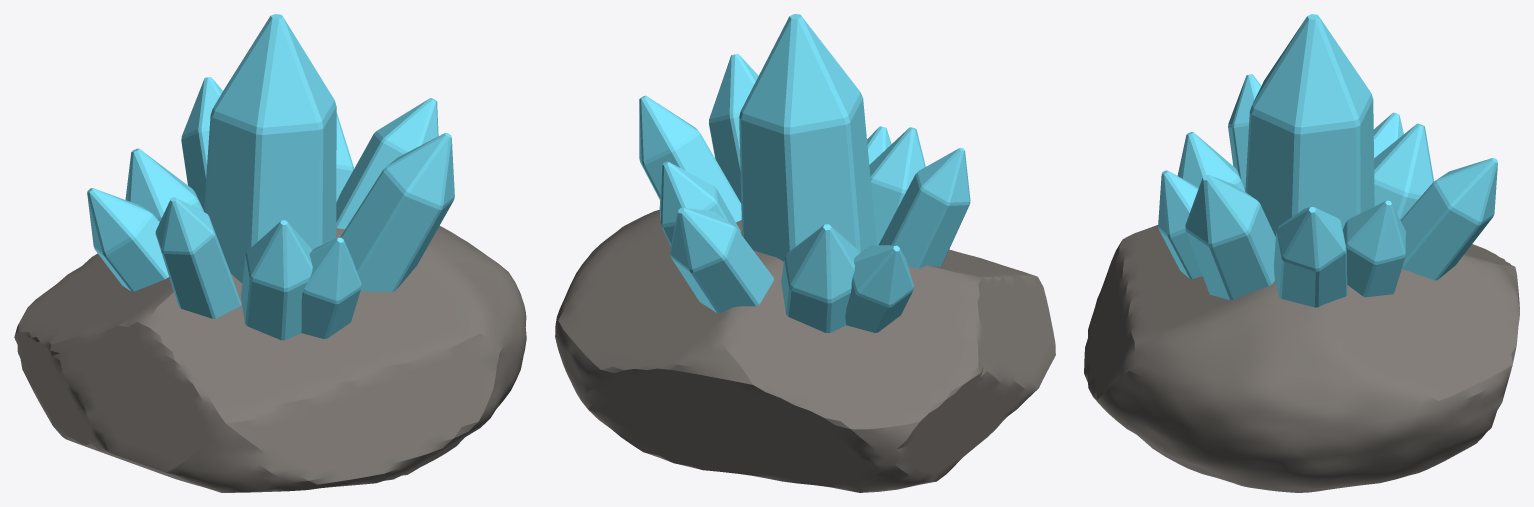
The model's file is RockGemCluster.fbx.
The picture shows the model from 3 angles, left to right: view 1: azimuth 30°, elevation 25°; view 2: azimuth 150°, elevation 25°; view 3: azimuth 270°, elevation 25°; orthographic projection. The views are drawn at different scales.
Visible parts, largest first — view 1: RockGemCluster_Stone, RockGemCluster_Gem; view 2: RockGemCluster_Stone, RockGemCluster_Gem; view 3: RockGemCluster_Stone, RockGemCluster_Gem.
Part boxes in pixels (x1,y1,x2,y2): RockGemCluster_Stone: (14, 226, 526, 492); RockGemCluster_Gem: (87, 14, 454, 340); RockGemCluster_Stone: (555, 209, 1055, 492); RockGemCluster_Gem: (639, 14, 970, 332); RockGemCluster_Stone: (1084, 225, 1519, 492); RockGemCluster_Gem: (1158, 14, 1497, 307).
Size of the model in its own units: 213 by 210 by 192.
